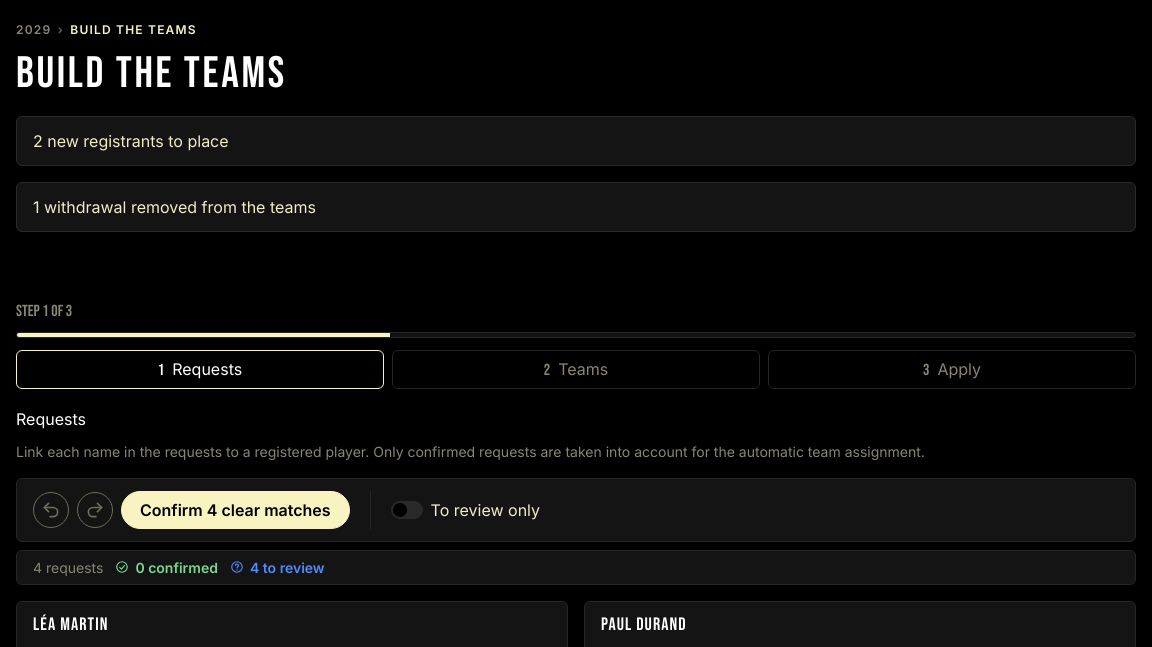
Test: team builder page › reconciles a saved draft: a departed player leaves and late registrants wait in the tray
Click the button "2 Teams" at (576, 370), box [392, 350, 760, 389]
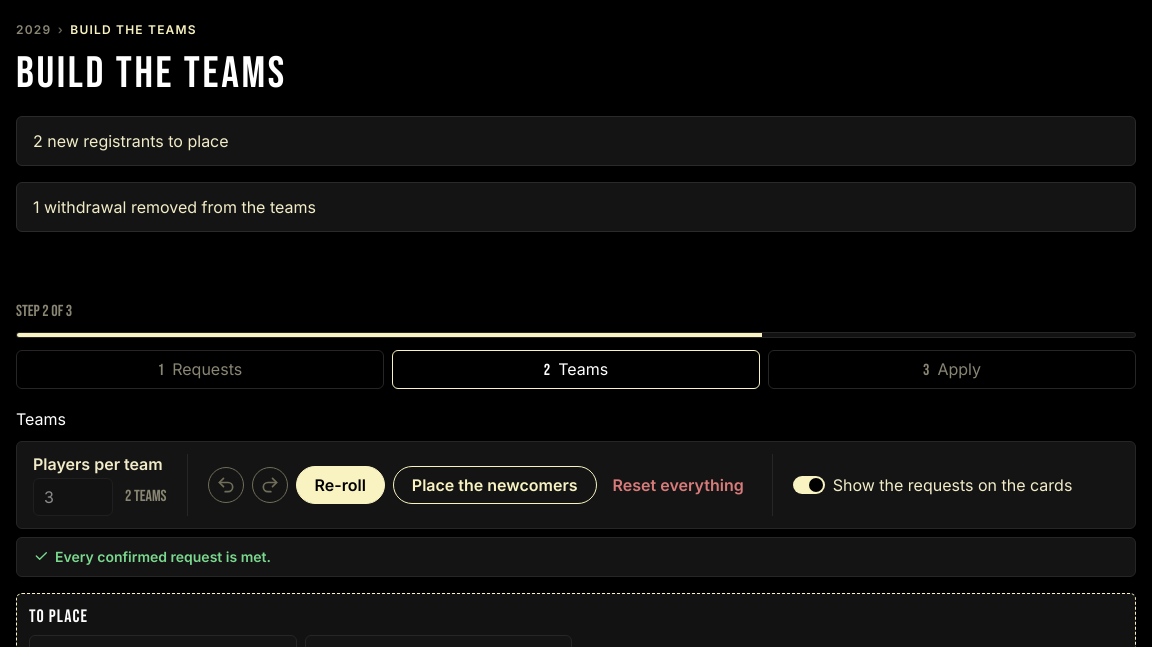
Expected: the text "2 new registrants to place" is shown, [16, 116, 1136, 166]
Result: the heading "To place" is shown at [29, 606, 88, 628]
